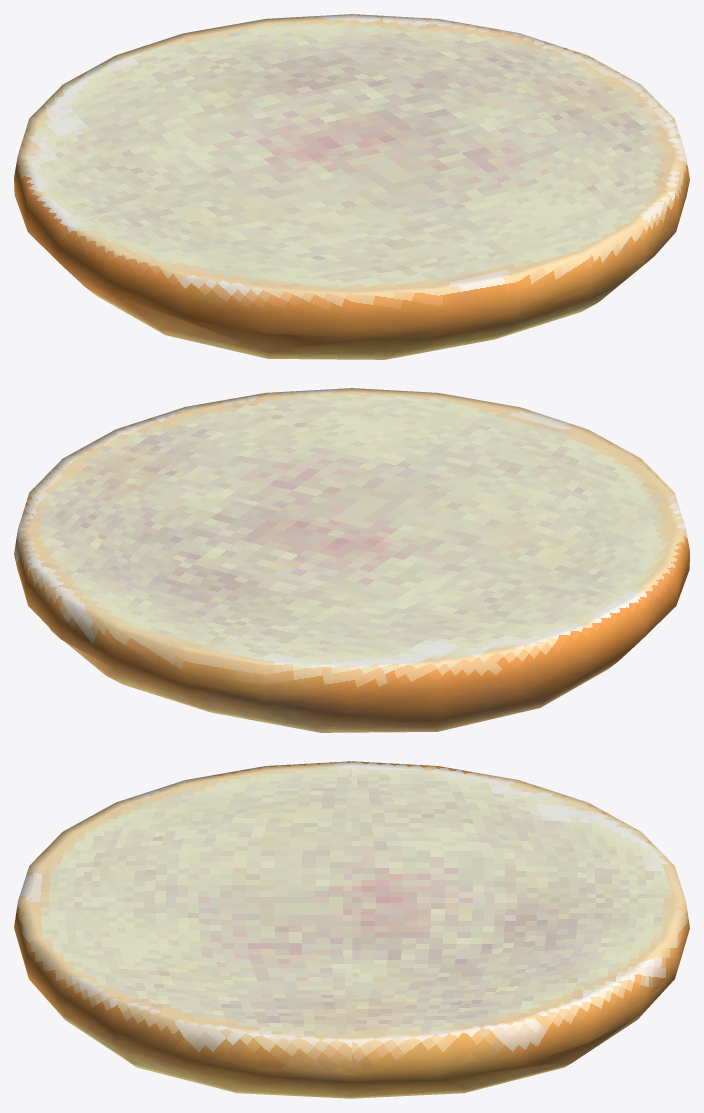
The model's file is Bun-heel.glb.
3 renders of one model, top to bottom at view 1: azimuth 30°, elevation 25°; view 2: azimuth 150°, elevation 25°; view 3: azimuth 270°, elevation 25°, orthographic.
Parts seen in each view (by area): view 1: Bun-heel; view 2: Bun-heel; view 3: Bun-heel.
Part boxes in pixels (box(x1,y1,x2,y2)): Bun-heel: box(14, 14, 689, 359); Bun-heel: box(14, 388, 689, 732); Bun-heel: box(14, 761, 689, 1098).
Size of what is drawn, in the model's own units: 2.34 by 0.2974 by 2.34.
Materials: 1 (1 with a texture image).
